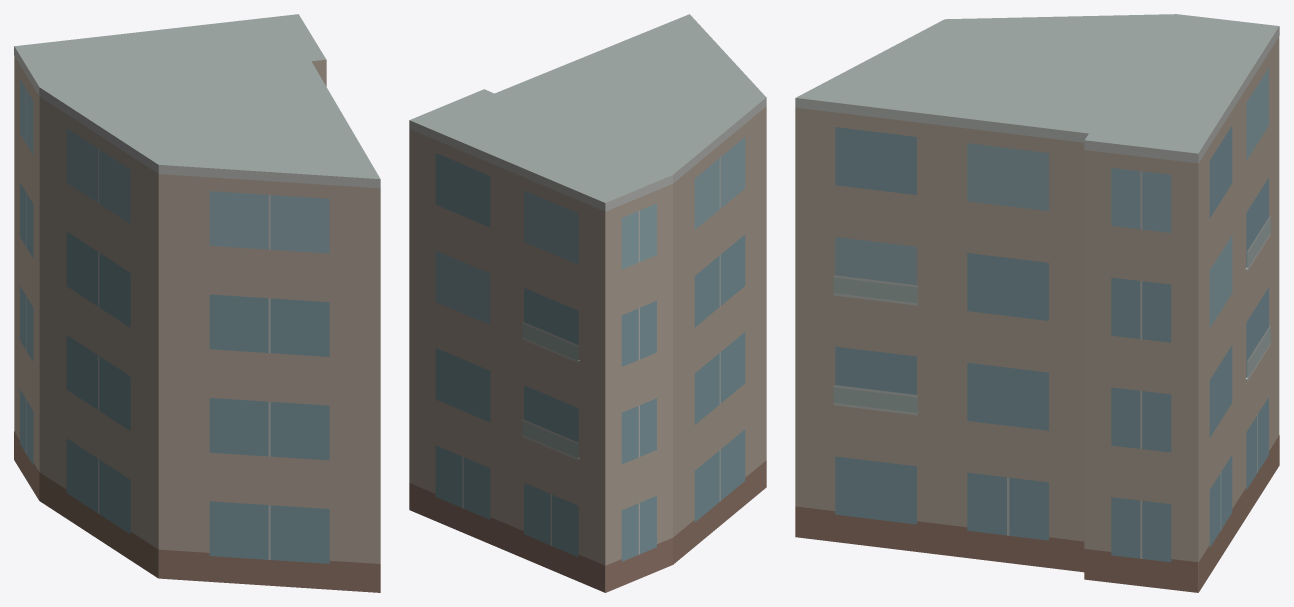
Rendered from survey-upis-32902935.glb.
3 renders of one model, left to right at view 1: azimuth 30°, elevation 25°; view 2: azimuth 150°, elevation 25°; view 3: azimuth 270°, elevation 25°, orthographic. The views are drawn at different scales.
Visible parts, largest first — view 1: survey-upis-32902935.tmp; view 2: survey-upis-32902935.tmp; view 3: survey-upis-32902935.tmp.
Part boxes in pixels (<box>): survey-upis-32902935.tmp: <box>14,14,380,592</box>; survey-upis-32902935.tmp: <box>409,14,766,592</box>; survey-upis-32902935.tmp: <box>795,14,1279,592</box>.
Bounding box in the file's own units: 7.51 × 11 × 11.
